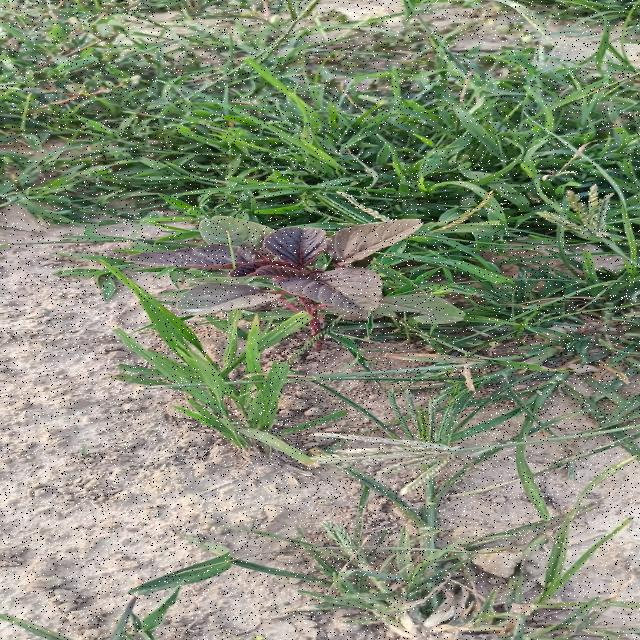plant: (128, 216, 465, 333)
